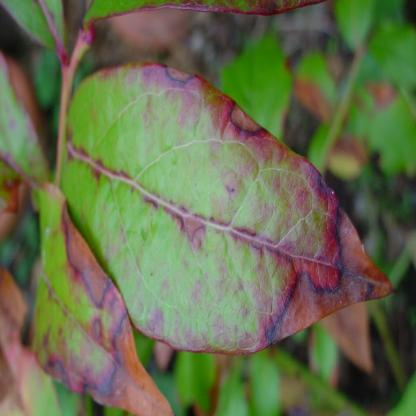blueberry leaf: (61, 71, 403, 359)
